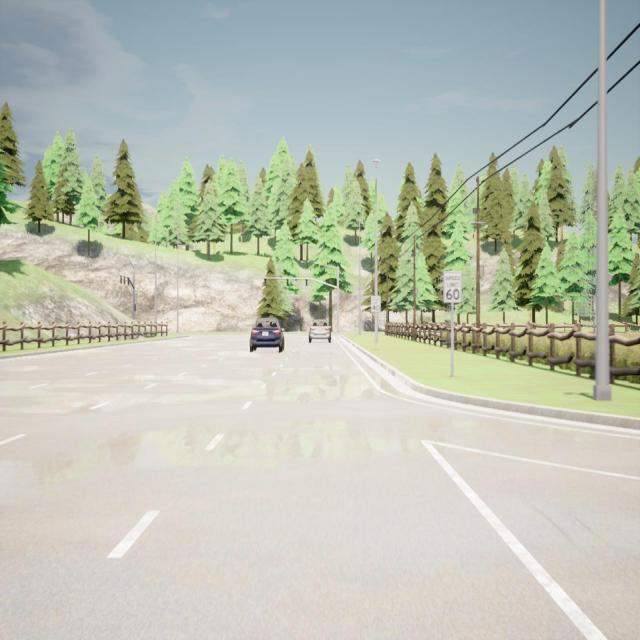Traffic_Signs: (444, 271, 462, 303), (371, 296, 381, 312)
Vehicle: (248, 317, 284, 355), (308, 320, 331, 342)
traffic_light: (264, 278, 266, 286), (120, 276, 122, 283), (134, 304, 136, 311), (128, 277, 129, 285), (287, 279, 288, 286), (124, 277, 125, 284), (306, 280, 307, 286)
